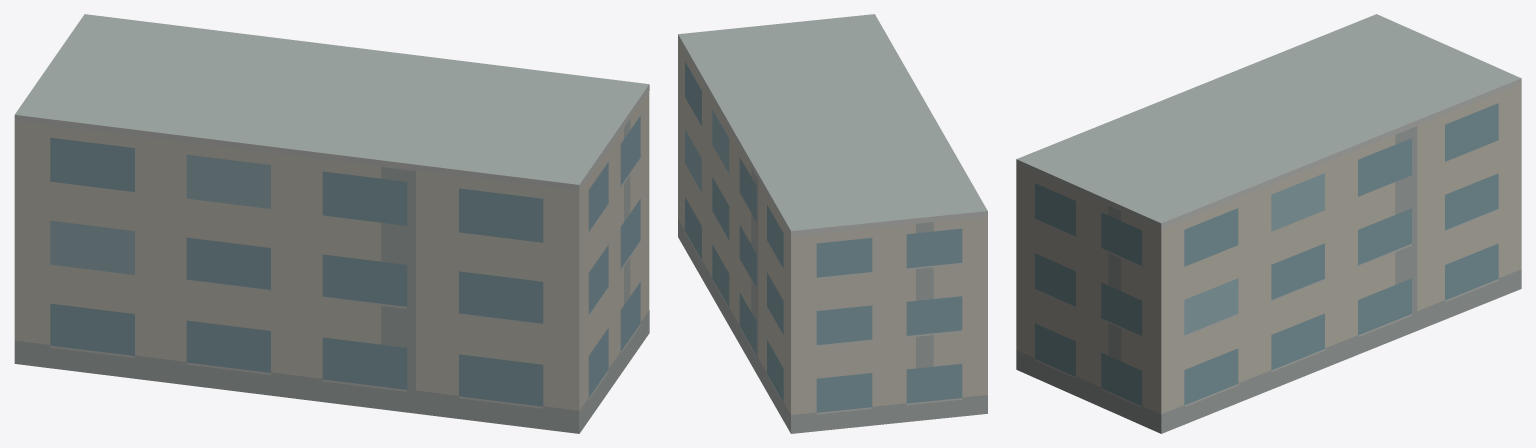
The model's file is residential-15f0e169-5044-46ec-91a0-8aa62d465503.glb.
3 views of the same model, side by side, from view 1: azimuth 30°, elevation 25°; view 2: azimuth 150°, elevation 25°; view 3: azimuth 270°, elevation 25° (orthographic). The views are drawn at different scales.
Visible parts, largest first — view 1: residential-15f0e169-5044-46ec-91a0-8aa62d465503.tmp; view 2: residential-15f0e169-5044-46ec-91a0-8aa62d465503.tmp; view 3: residential-15f0e169-5044-46ec-91a0-8aa62d465503.tmp.
Boxes of the visible parts, bbox=[...] form: residential-15f0e169-5044-46ec-91a0-8aa62d465503.tmp: bbox=[14, 14, 649, 433]; residential-15f0e169-5044-46ec-91a0-8aa62d465503.tmp: bbox=[678, 14, 987, 433]; residential-15f0e169-5044-46ec-91a0-8aa62d465503.tmp: bbox=[1016, 14, 1521, 433].
Bounding box in the file's own units: 19.53 × 9.15 × 19.91.
